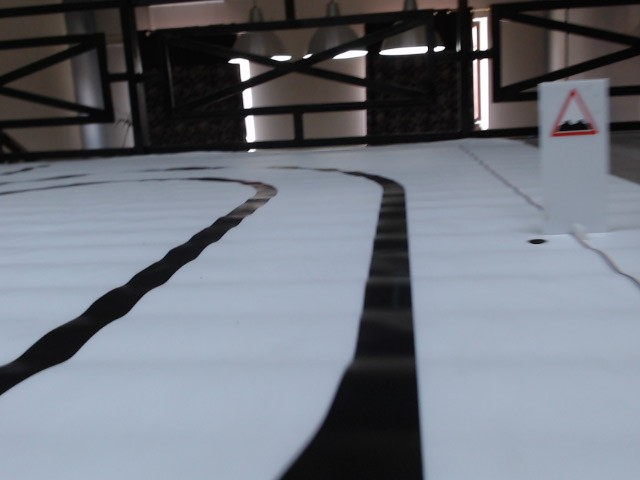Nerov: (548, 88, 600, 139)
